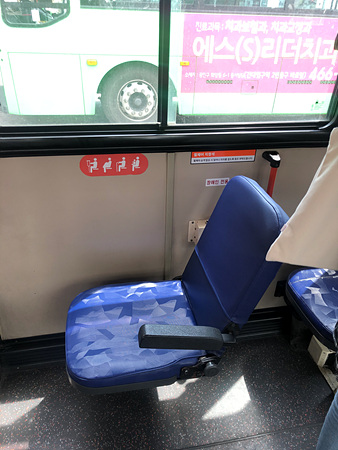seat: (67, 176, 289, 393)
